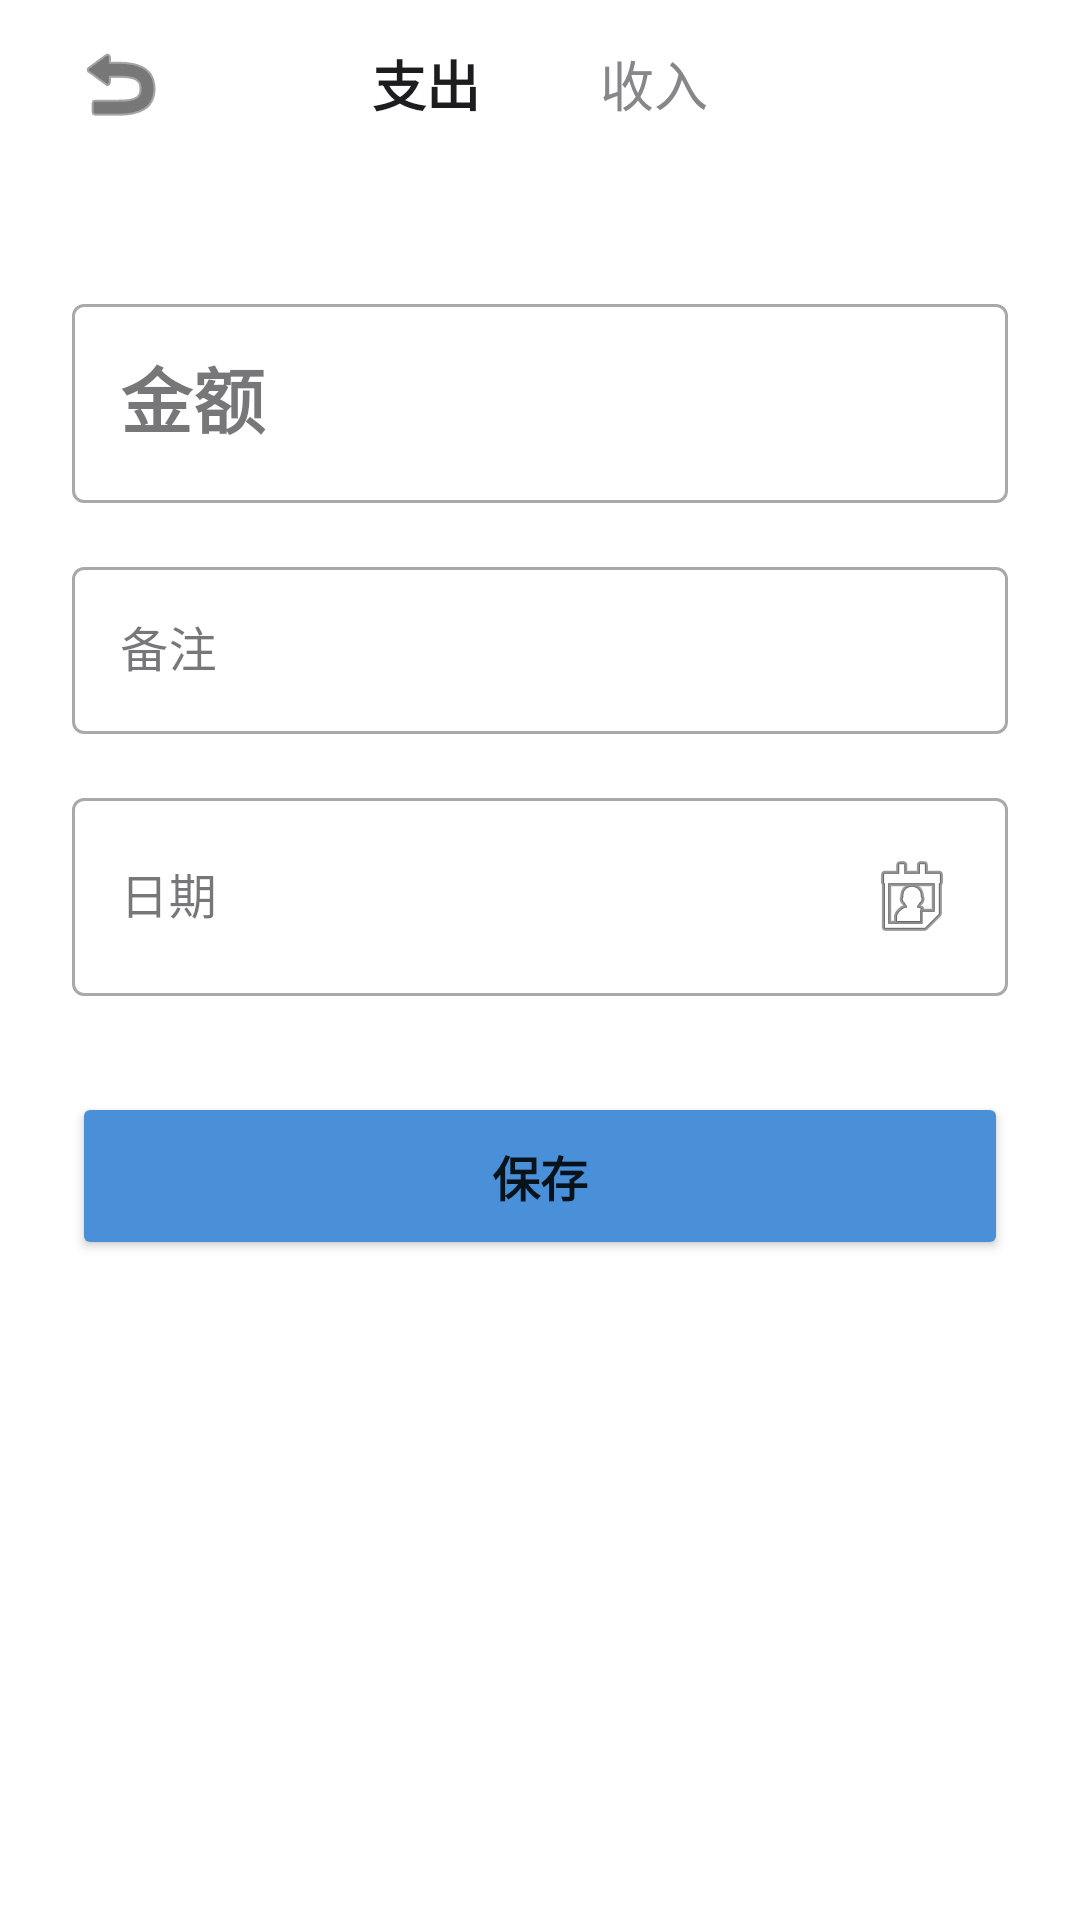

Named icons in this screenshot (1080×1920) and their centers, (x,y):
revert: (121,84)
